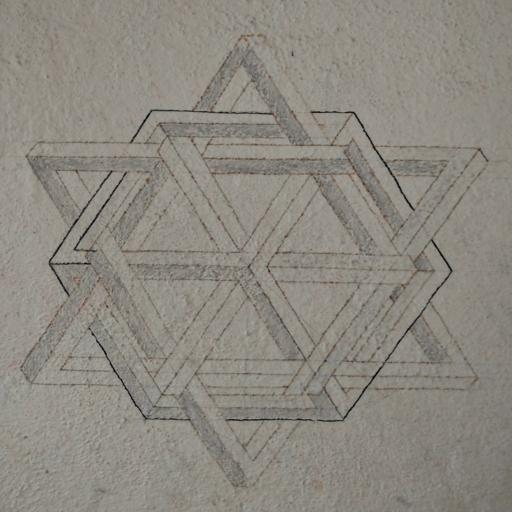stain: (16, 10, 504, 492)
